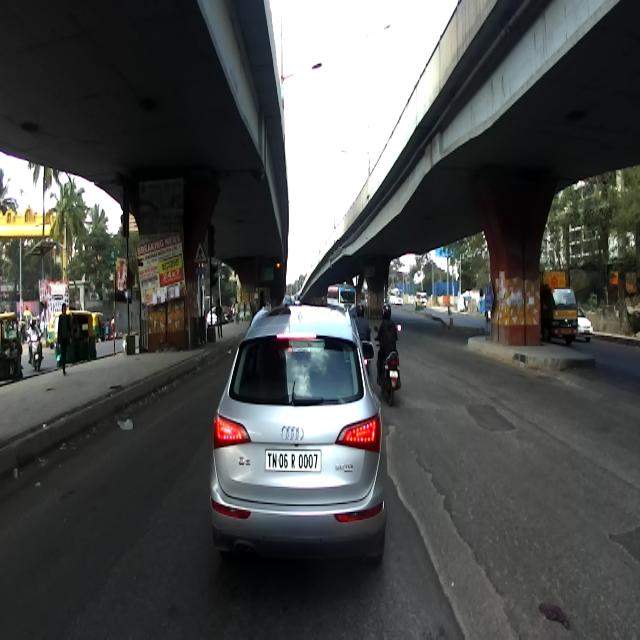car ahead at: (204, 285, 395, 570)
